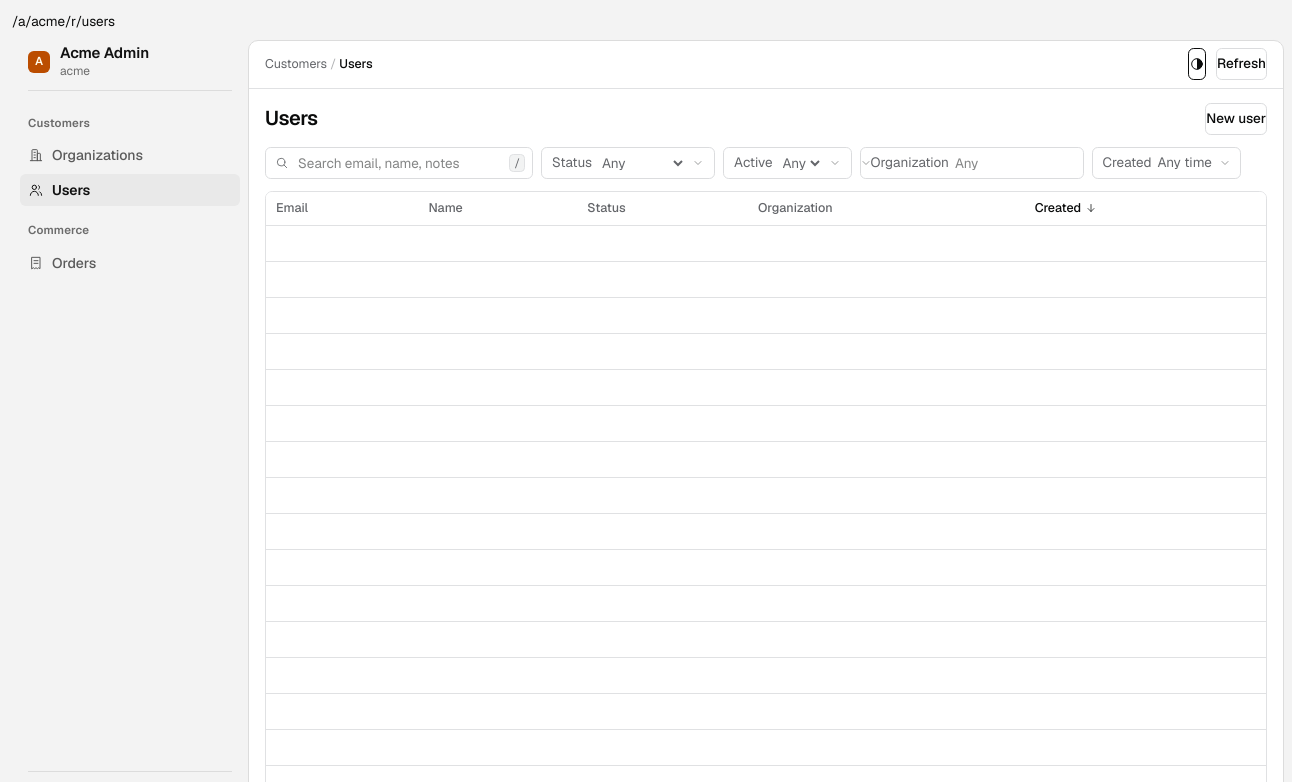
the relation filter › narrows the table to the record that was chosen by name
Press ArrowDown in the dropdown labelled "Organization", box [955,147,1054,179]
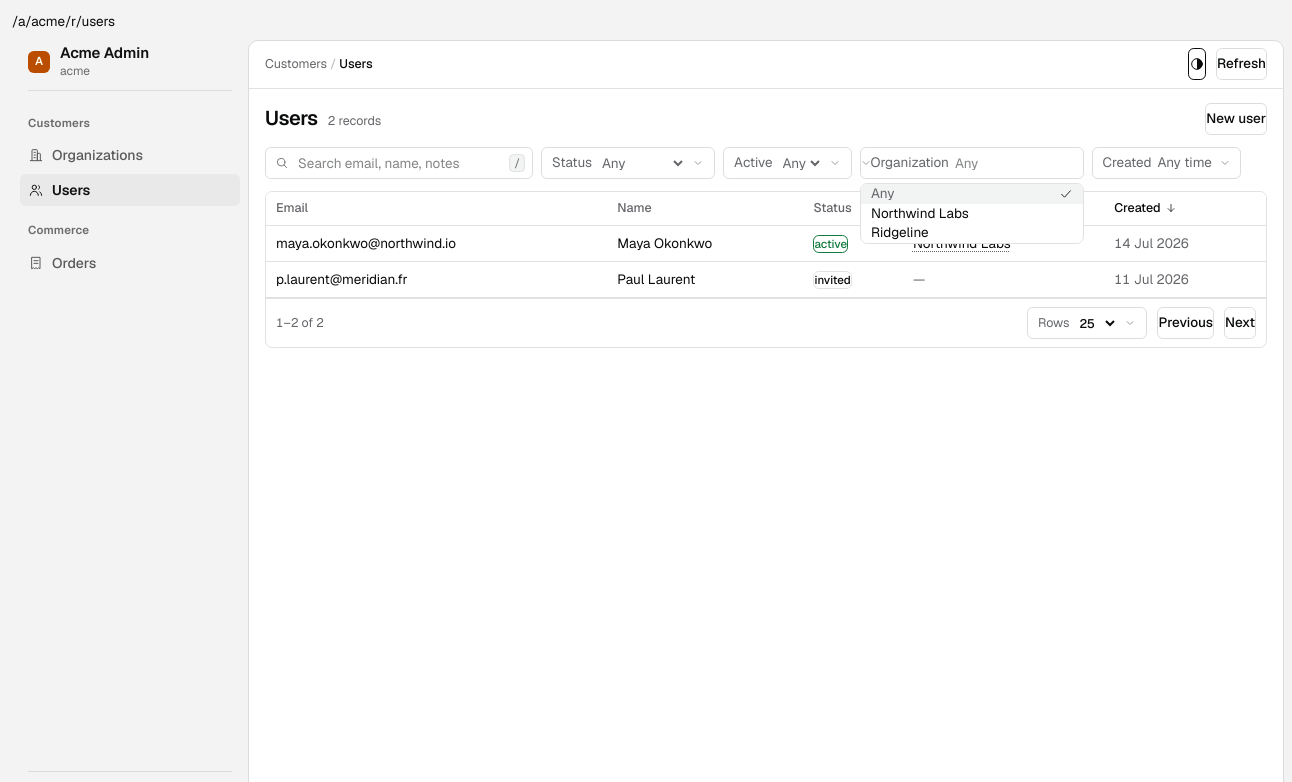
Click the option "Ridgeline" at (900, 232), box [871,223,929,241]
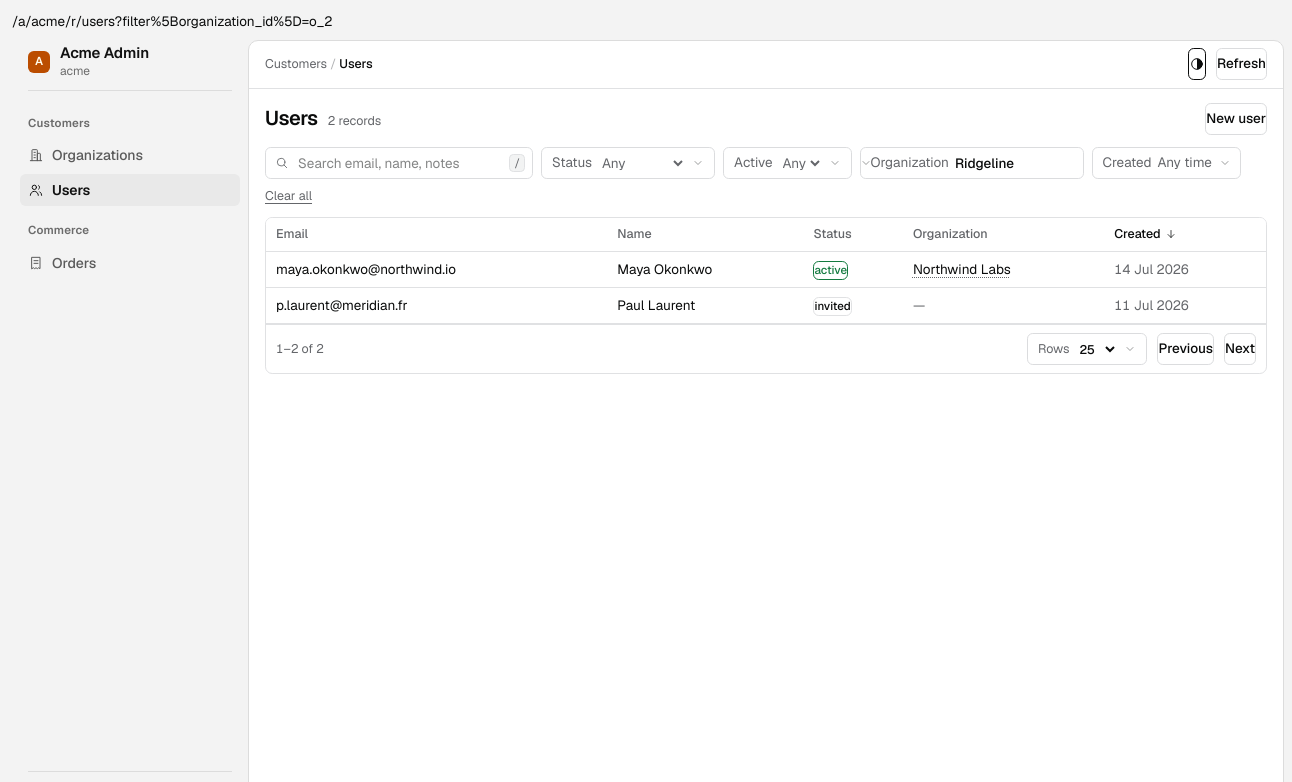
Now the text with test id "url" shows "filter%5Borganization_id%5D=o_2", box [12,12,332,30]
Now the dropdown labelled "Organization" holds "Ridgeline", box [955,147,1054,179]
